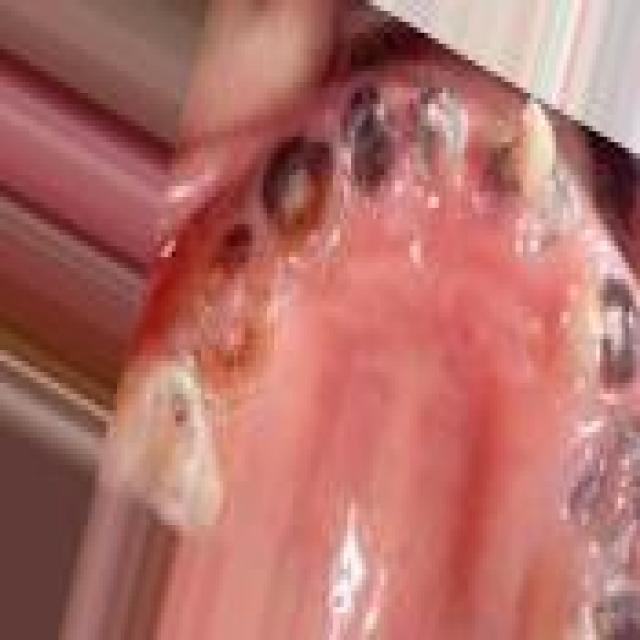caries: (559, 399, 640, 541), (259, 126, 339, 255), (196, 223, 260, 374), (578, 250, 640, 398), (409, 77, 482, 202), (336, 80, 406, 201), (484, 96, 546, 210), (564, 563, 636, 640), (161, 382, 194, 446)
